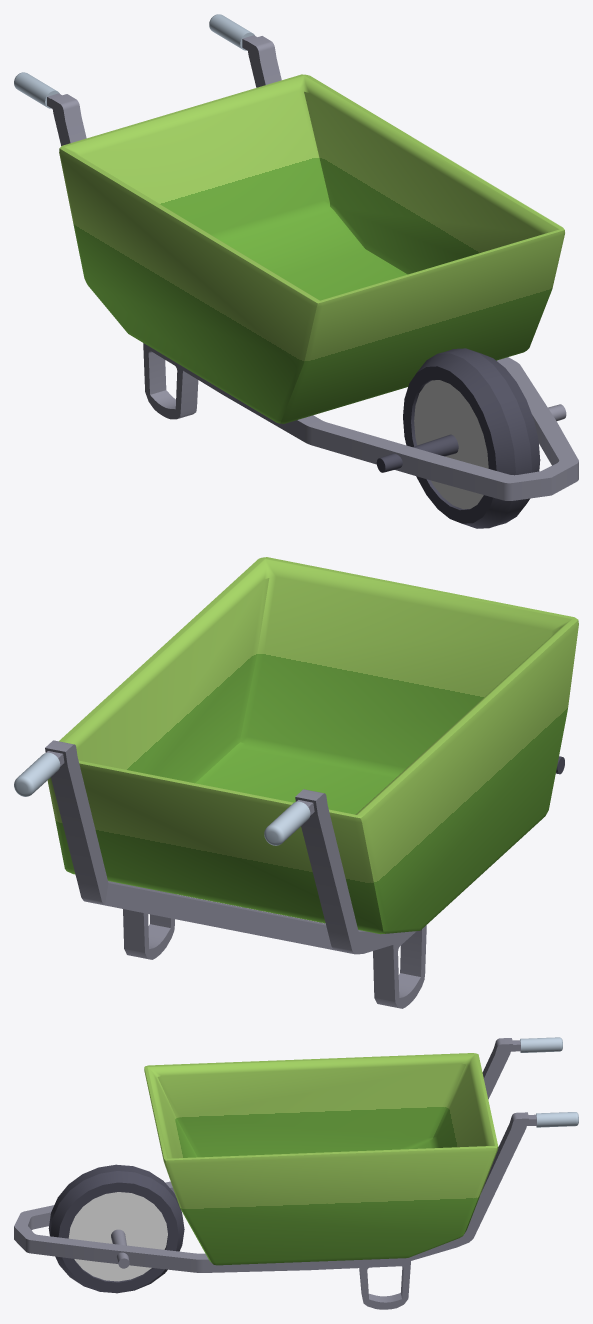
File: carretilla.fbx
3 renders of one model, top to bottom at view 1: azimuth 30°, elevation 25°; view 2: azimuth 150°, elevation 25°; view 3: azimuth 270°, elevation 25°, orthographic. The views are drawn at different scales.
Parts seen in each view (by area): view 1: carretilla; view 2: carretilla; view 3: carretilla.
Part boxes in pixels (x1,y1,x2,y2): carretilla: (14,14,578,528); carretilla: (14,557,578,1008); carretilla: (14,1037,578,1309).
Size of the model in its own units: 168 by 143 by 369.
